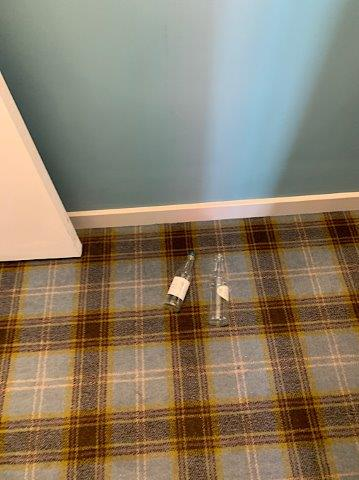botolkaca: (164, 252, 196, 311), (209, 255, 229, 325)
